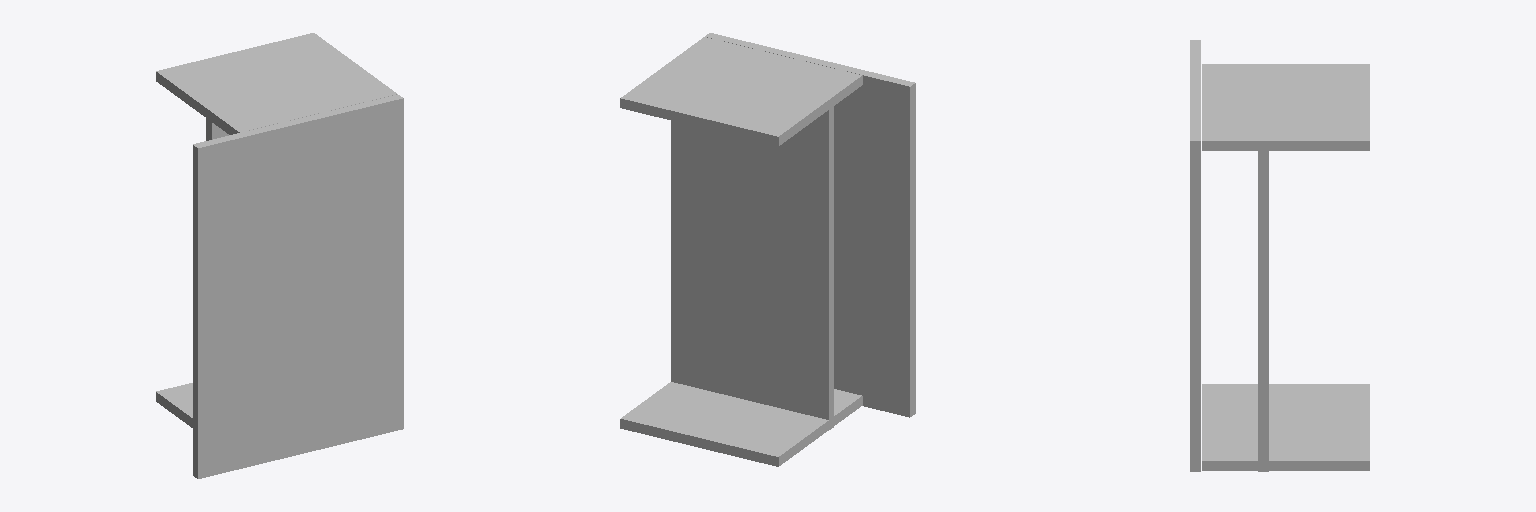
File: table.obj
3 renders of one model, left to right at view 1: azimuth 30°, elevation 25°; view 2: azimuth 150°, elevation 25°; view 3: azimuth 270°, elevation 25°, orthographic.
Visible parts, largest first — view 1: Cube_Cube.001, Cube.002_Cube.003, Cube.003_Cube.004, Cube.001_Cube.002; view 2: Cube.003_Cube.004, Cube_Cube.001, Cube.002_Cube.003, Cube.001_Cube.002; view 3: Cube.002_Cube.003, Cube.001_Cube.002, Cube_Cube.001, Cube.003_Cube.004.
Part boxes in pixels (bbox=[...]): Cube_Cube.001: bbox=[193, 94, 403, 478]; Cube.002_Cube.003: bbox=[156, 33, 396, 134]; Cube.003_Cube.004: bbox=[206, 70, 369, 140]; Cube.001_Cube.002: bbox=[156, 383, 192, 427]; Cube.003_Cube.004: bbox=[671, 57, 833, 429]; Cube_Cube.001: bbox=[705, 33, 915, 417]; Cube.002_Cube.003: bbox=[620, 37, 862, 146]; Cube.001_Cube.002: bbox=[620, 382, 862, 466]; Cube.002_Cube.003: bbox=[1202, 64, 1369, 150]; Cube.001_Cube.002: bbox=[1202, 384, 1369, 470]; Cube_Cube.001: bbox=[1190, 40, 1200, 471]; Cube.003_Cube.004: bbox=[1258, 64, 1268, 471].
Size of the model in its own units: 1.3 by 2 by 0.9822.